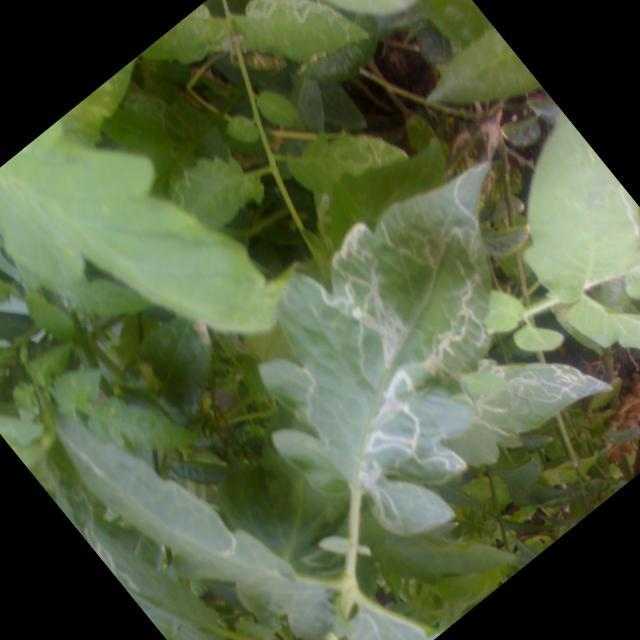Tomato target spot leaf: (277, 147, 493, 534), (446, 361, 610, 464)
